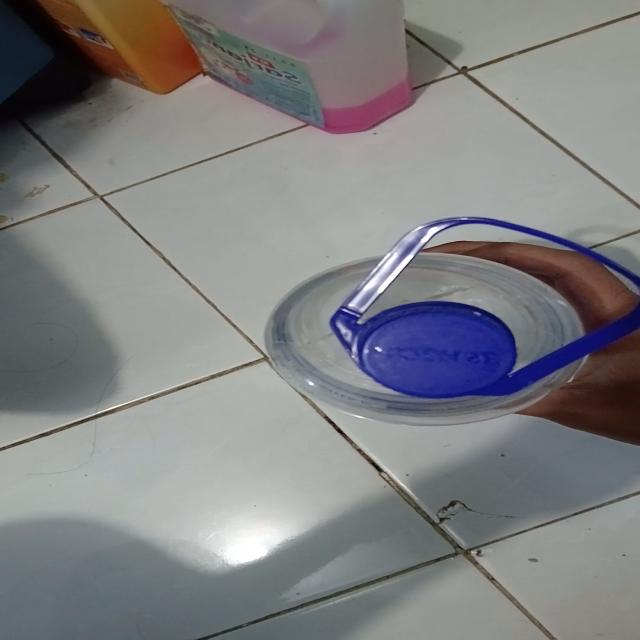Botol bekas: (264, 249, 591, 426)
